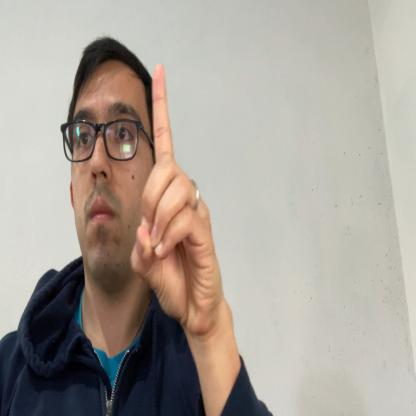D: (130, 63, 222, 335)
